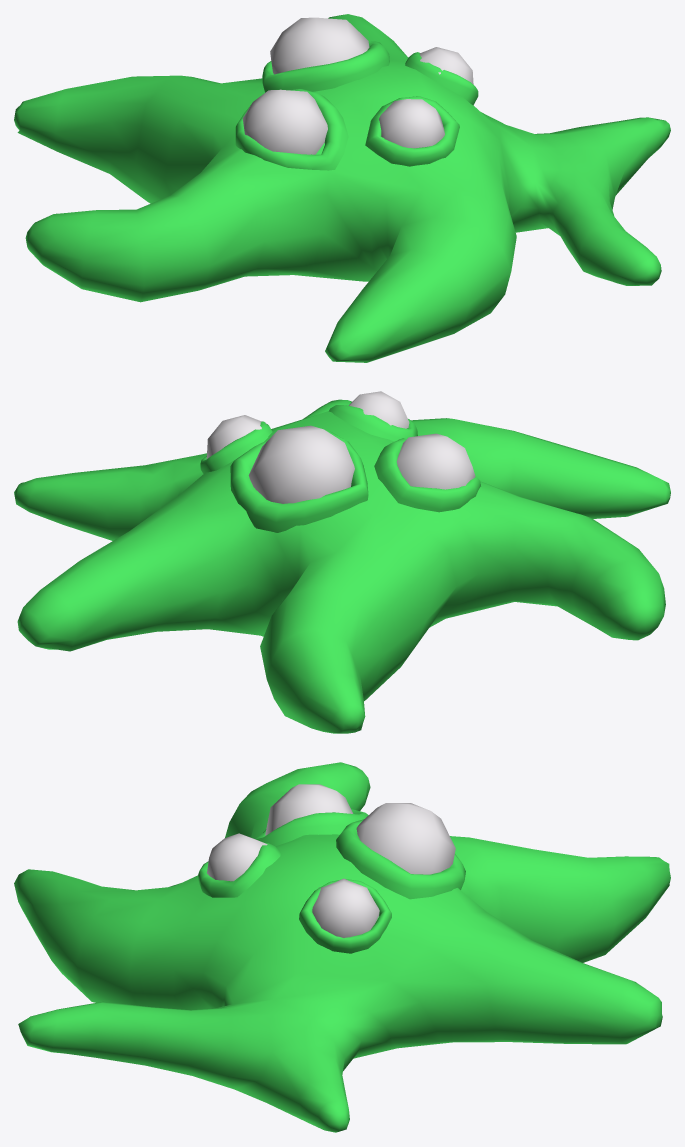
Rendered from PARASITEBIGEYESLP2.fbx.
3 renders of one model, top to bottom at view 1: azimuth 30°, elevation 25°; view 2: azimuth 150°, elevation 25°; view 3: azimuth 270°, elevation 25°, orthographic. The views are drawn at different scales.
Parts seen in each view (by area): view 1: polySurface9, polySurface8; view 2: polySurface9, polySurface8; view 3: polySurface9, polySurface8.
Boxes of the visible parts, <box> form: polySurface9: <box>14,14,670,362</box>; polySurface8: <box>242,17,473,154</box>; polySurface9: <box>14,399,670,733</box>; polySurface8: <box>206,391,475,503</box>; polySurface9: <box>14,762,670,1132</box>; polySurface8: <box>207,784,455,937</box>.
Size of the model in its own units: 98.16 by 30.74 by 87.1.
